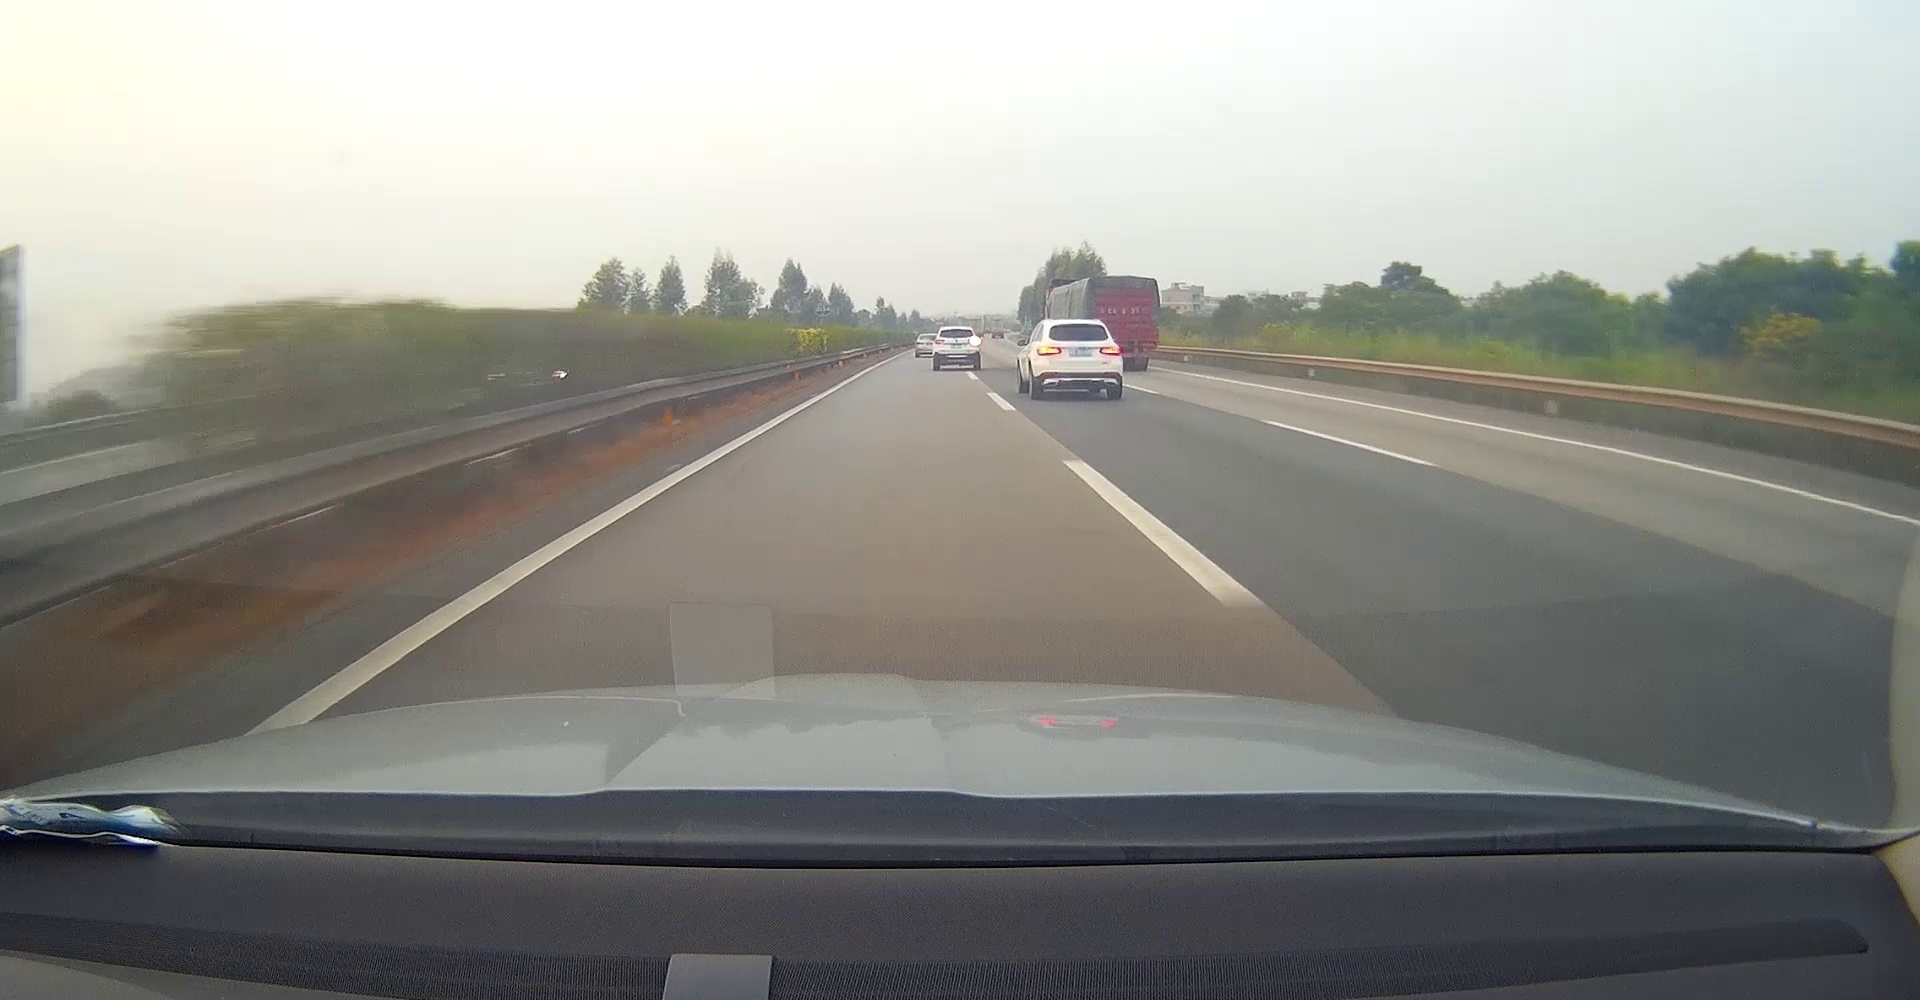L_light: (1036, 346, 1062, 357), (935, 339, 945, 344)
R_light: (1098, 346, 1121, 355), (968, 339, 979, 344)
T_light: (1070, 324, 1088, 326), (951, 327, 961, 331)
day-no: (1032, 319, 1123, 398)
day-right: (932, 326, 982, 371)
